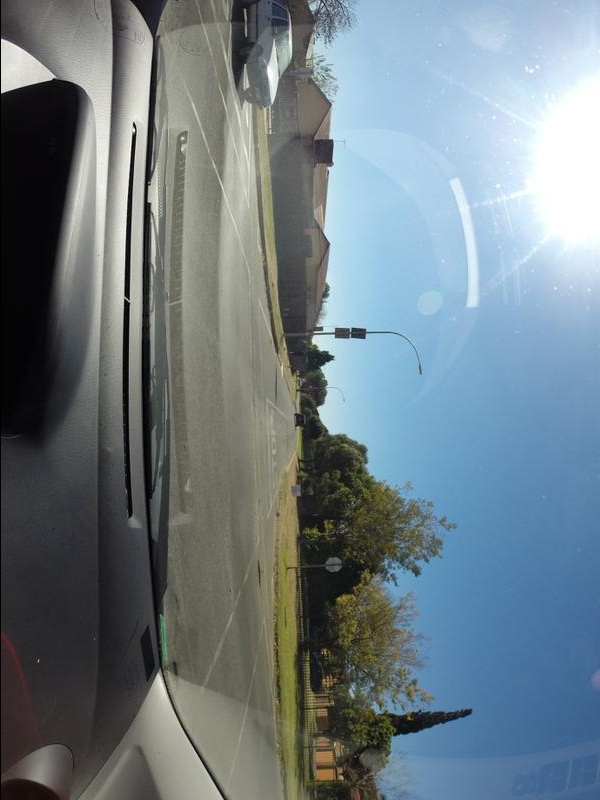pothole: (165, 586, 187, 643), (167, 663, 178, 690), (256, 557, 261, 590)
